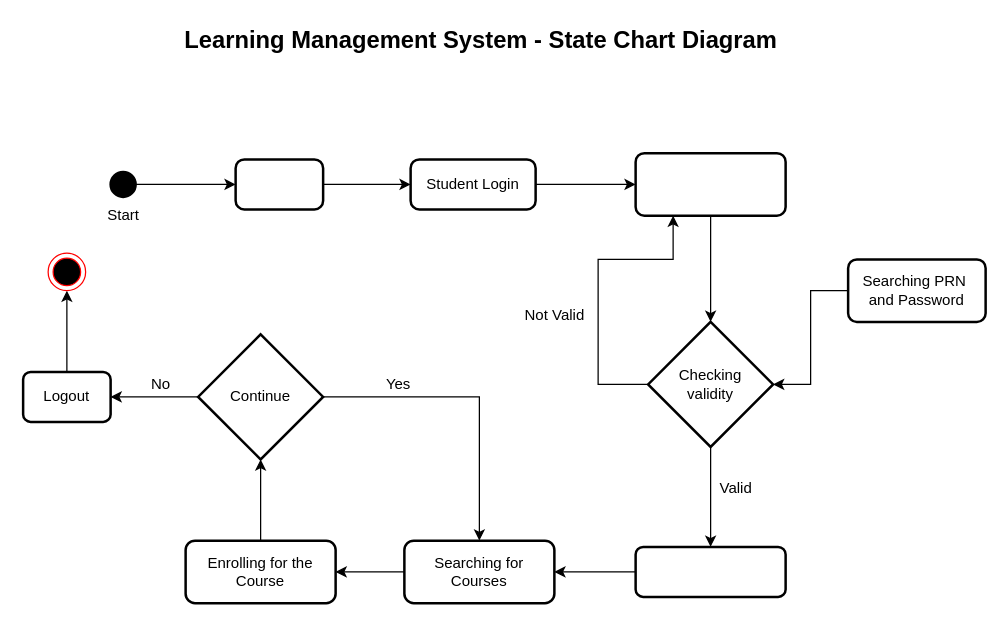
This 1008x625 diagram has some shape labels left out. Here are the shapes that lost their labels. From the top down, the box of each, then its label:
(234, 158, 324, 210): Idle
(634, 151, 786, 216): Verifying PRN and Password
(634, 545, 786, 598): Successful Login
